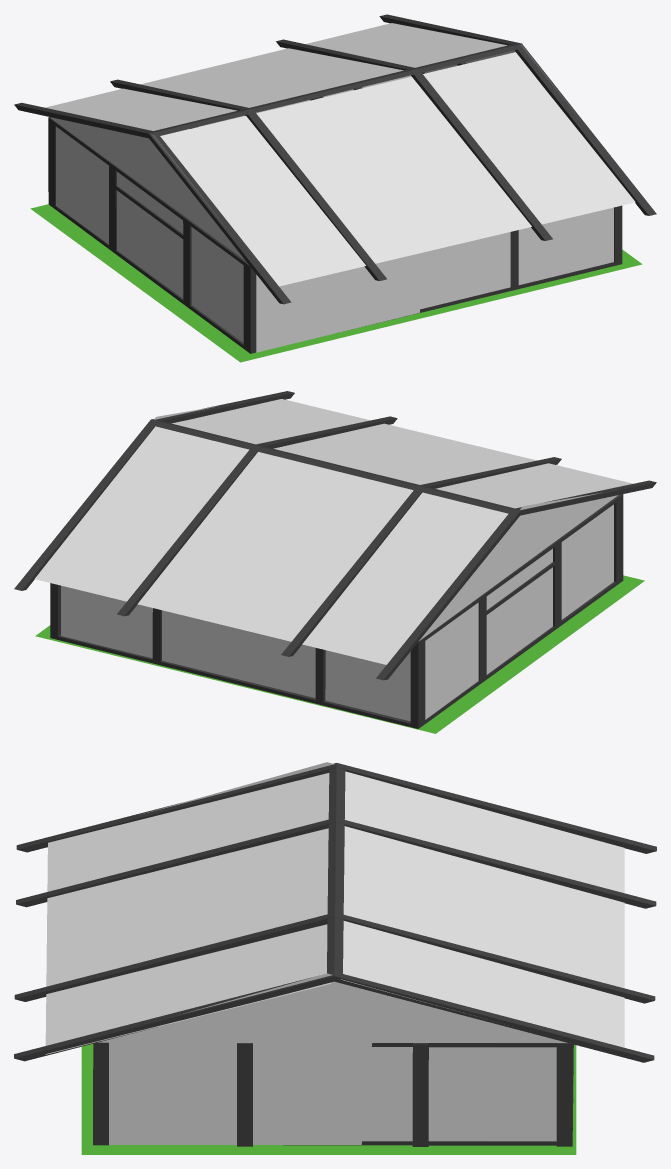
Rendered from invernadero.glb.
3 renders of one model, top to bottom at view 1: azimuth 30°, elevation 25°; view 2: azimuth 150°, elevation 25°; view 3: azimuth 270°, elevation 25°, orthographic. The views are drawn at different scales.
Visible parts, largest first — view 1: Plano.006, obj_24, Plano.003, Plano.002, Plano.005, Plano; view 2: Plano.005, obj_24, Plano.002, Plano.006, Plano.004, Plano; view 3: Plano.001, Plano.006, Plano.005, obj_24, Plano.
Part boxes in pixels (x1,y1,x2,y2): Plano.006: [160, 52, 635, 286]; obj_24: [14, 14, 656, 353]; Plano.003: [256, 207, 613, 352]; Plano.002: [50, 117, 245, 342]; Plano.005: [45, 23, 507, 130]; Plano: [30, 204, 642, 362]; Plano.005: [35, 426, 508, 664]; obj_24: [14, 391, 656, 728]; Plano.002: [419, 493, 617, 719]; Plano.006: [171, 399, 632, 508]; Plano.004: [61, 585, 410, 721]; Plano: [35, 575, 644, 733]; Plano.001: [98, 973, 566, 1144]; Plano.006: [45, 773, 331, 1054]; Plano.005: [341, 771, 624, 1047]; obj_24: [14, 763, 656, 1146]; Plano: [81, 1044, 576, 1154].
Bounding box in the file's own units: 45.41 × 15.81 × 53.43.
